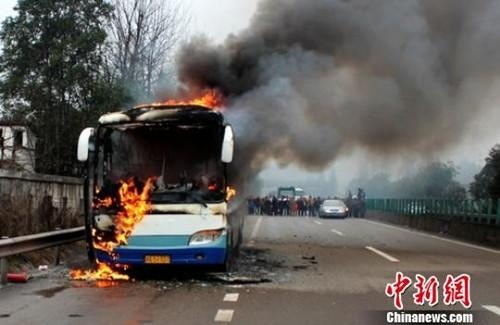fire: (75, 174, 158, 282), (142, 91, 223, 111)
